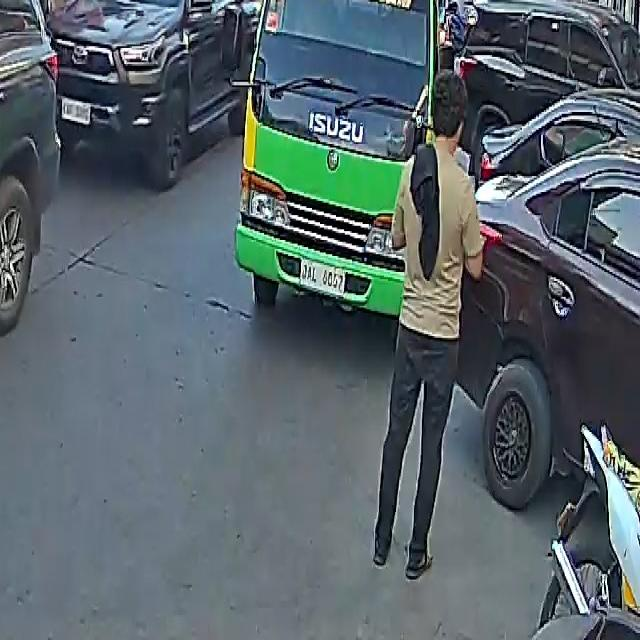car: (462, 84, 640, 526), (0, 0, 77, 516), (44, 0, 251, 188), (454, 0, 639, 181)
